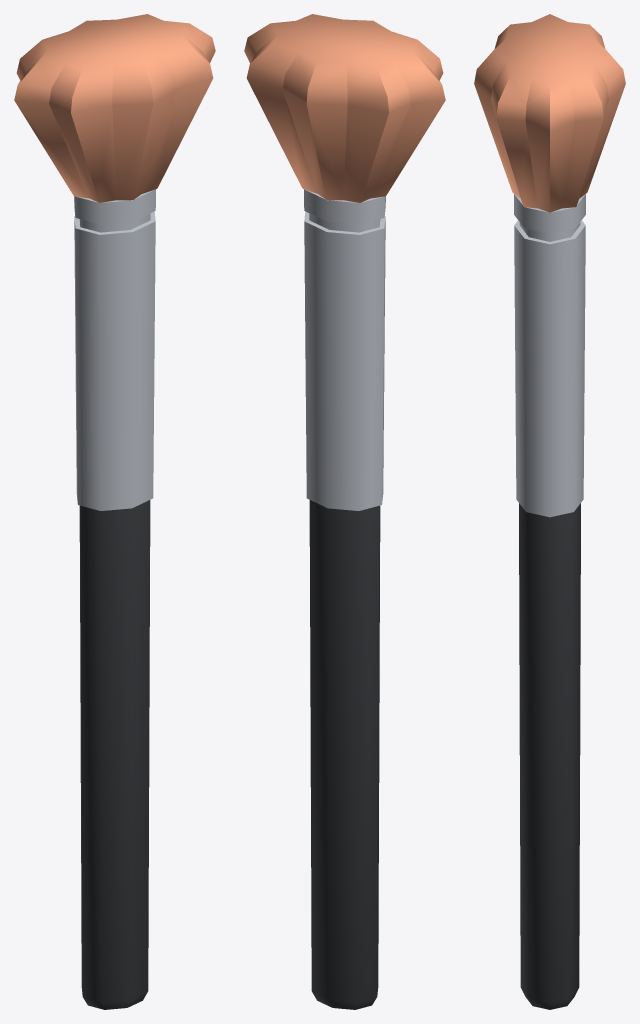
File: Brush Large Blush.glb
The picture shows the model from 3 angles, left to right: view 1: azimuth 30°, elevation 25°; view 2: azimuth 150°, elevation 25°; view 3: azimuth 270°, elevation 25°; orthographic projection.
Visible parts, largest first — view 1: brush_large_blush.001; view 2: brush_large_blush.001; view 3: brush_large_blush.001.
Part boxes in pixels (box(x1,y1,x2,y2)): brush_large_blush.001: box(14, 14, 215, 1009); brush_large_blush.001: box(244, 14, 445, 1009); brush_large_blush.001: box(474, 14, 625, 1009).
Bounding box in the file's own units: 6.31 × 28.63 × 4.16.
Materials: 1 (1 with a texture image).
